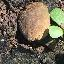Purslane: (34, 2, 64, 64)
